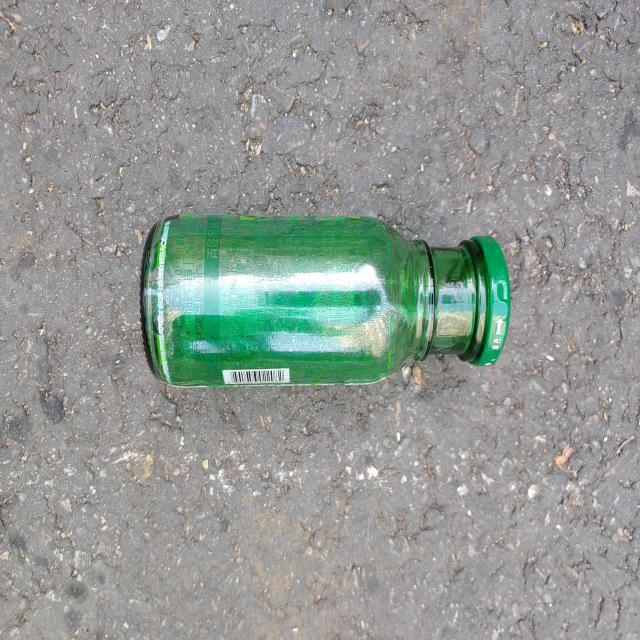glass: (140, 214, 511, 386)
